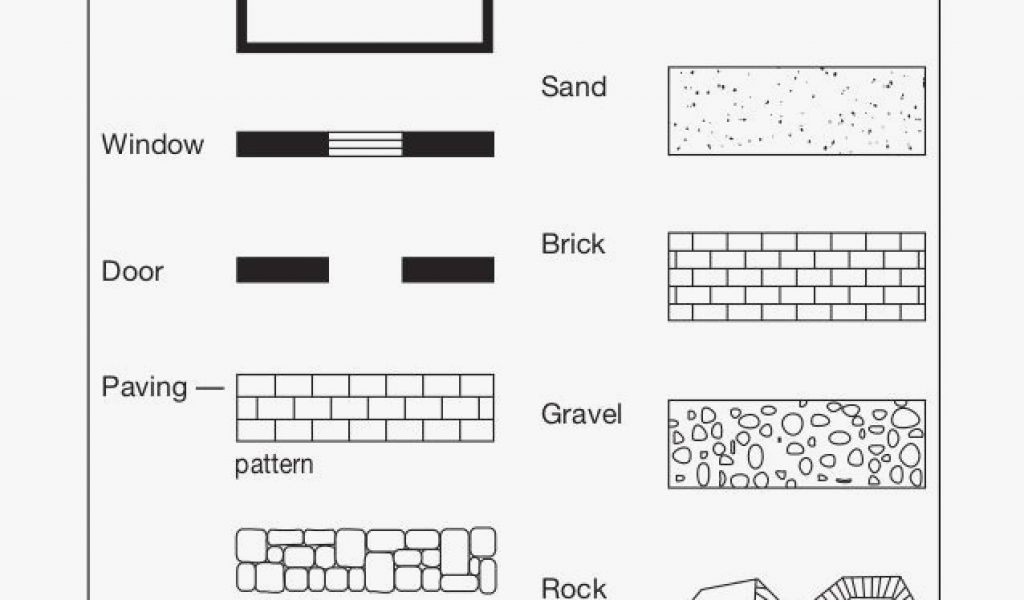window: (328, 131, 400, 157)
